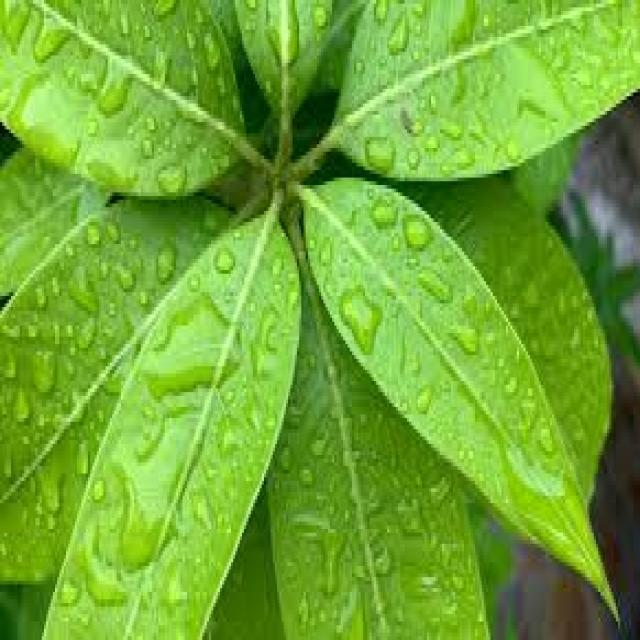leaf: (0, 0, 638, 638), (297, 174, 622, 634)
